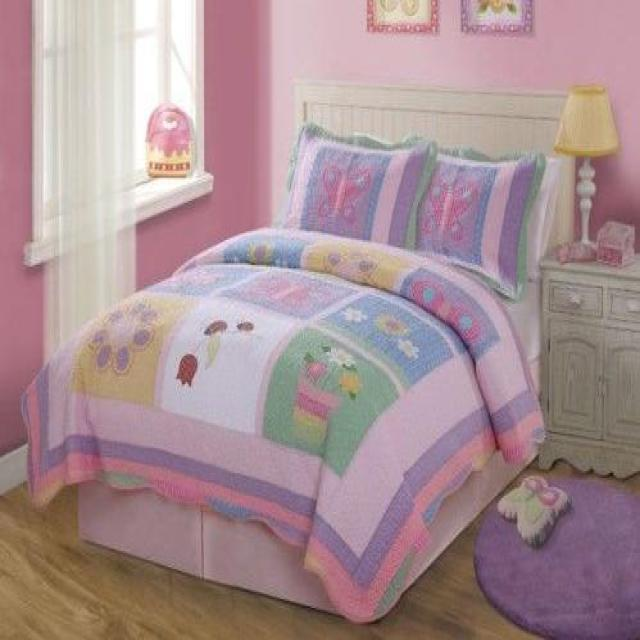bed: (20, 78, 576, 624)
